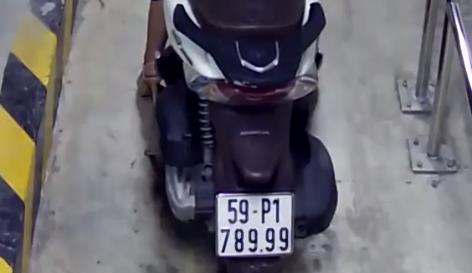lisence: (215, 192, 294, 257)
